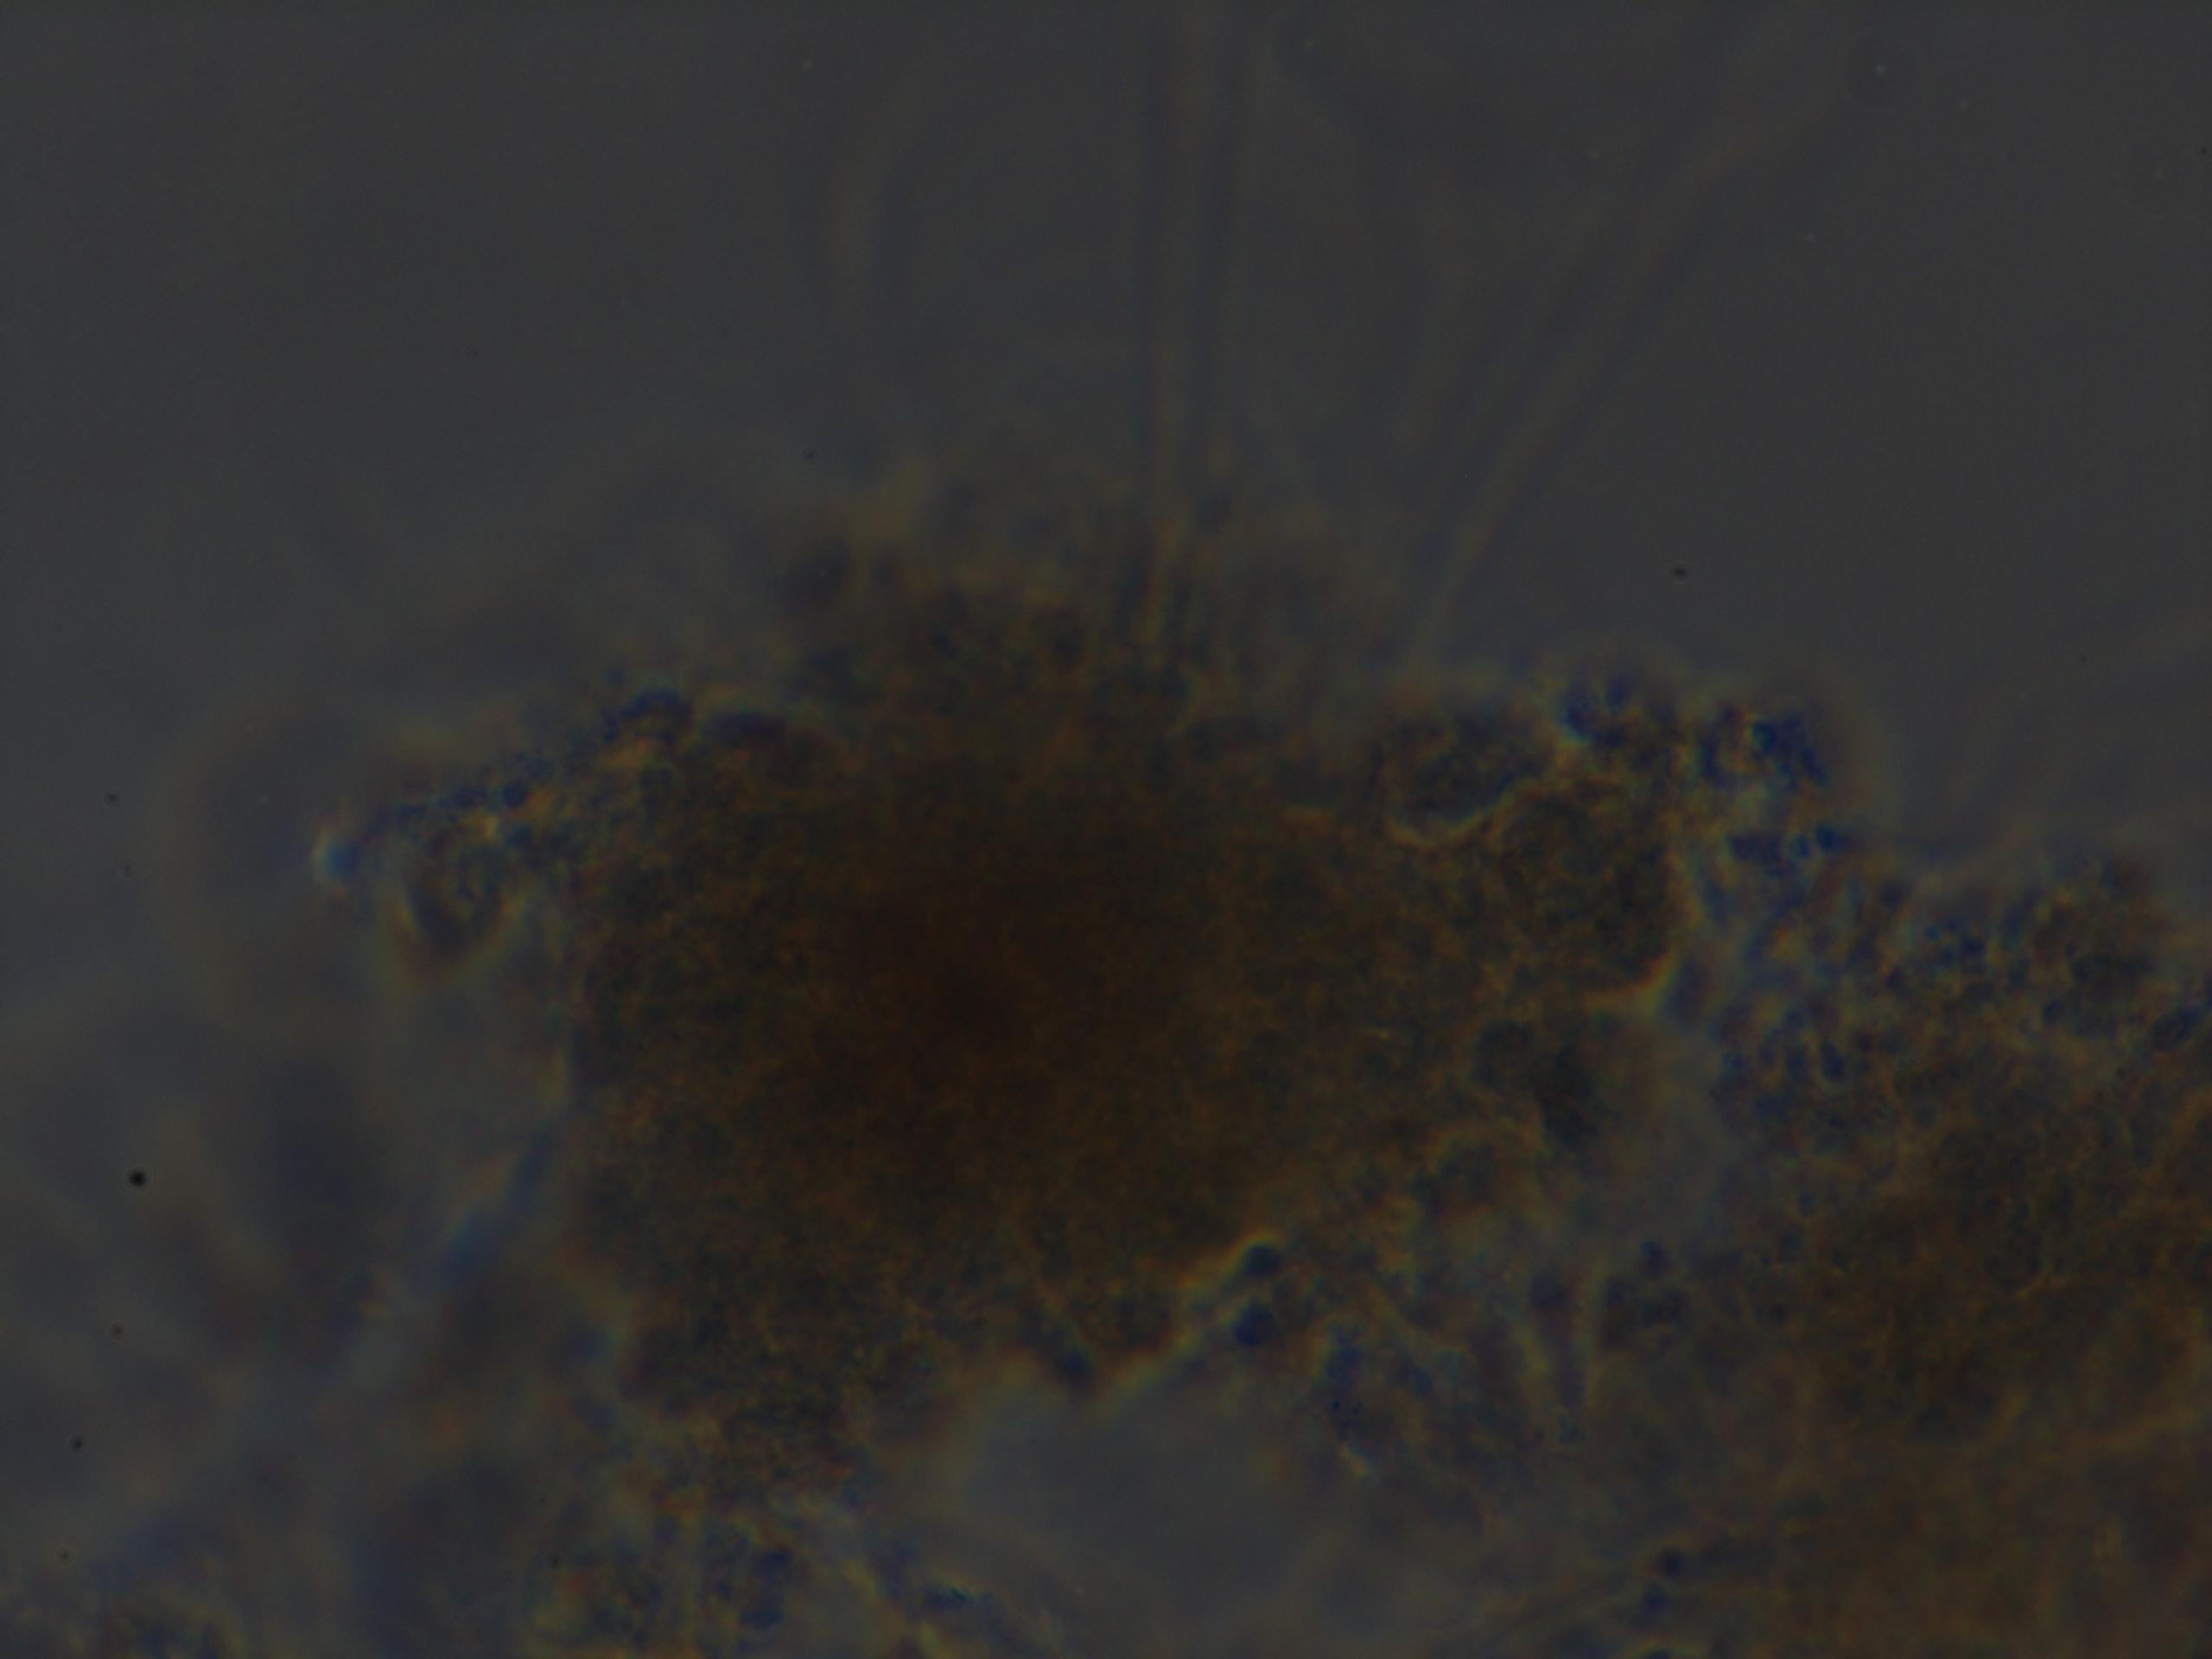filament: (1371, 0, 1831, 687), (1108, 0, 1271, 718)
spherical_floc: (472, 554, 1710, 1490)
